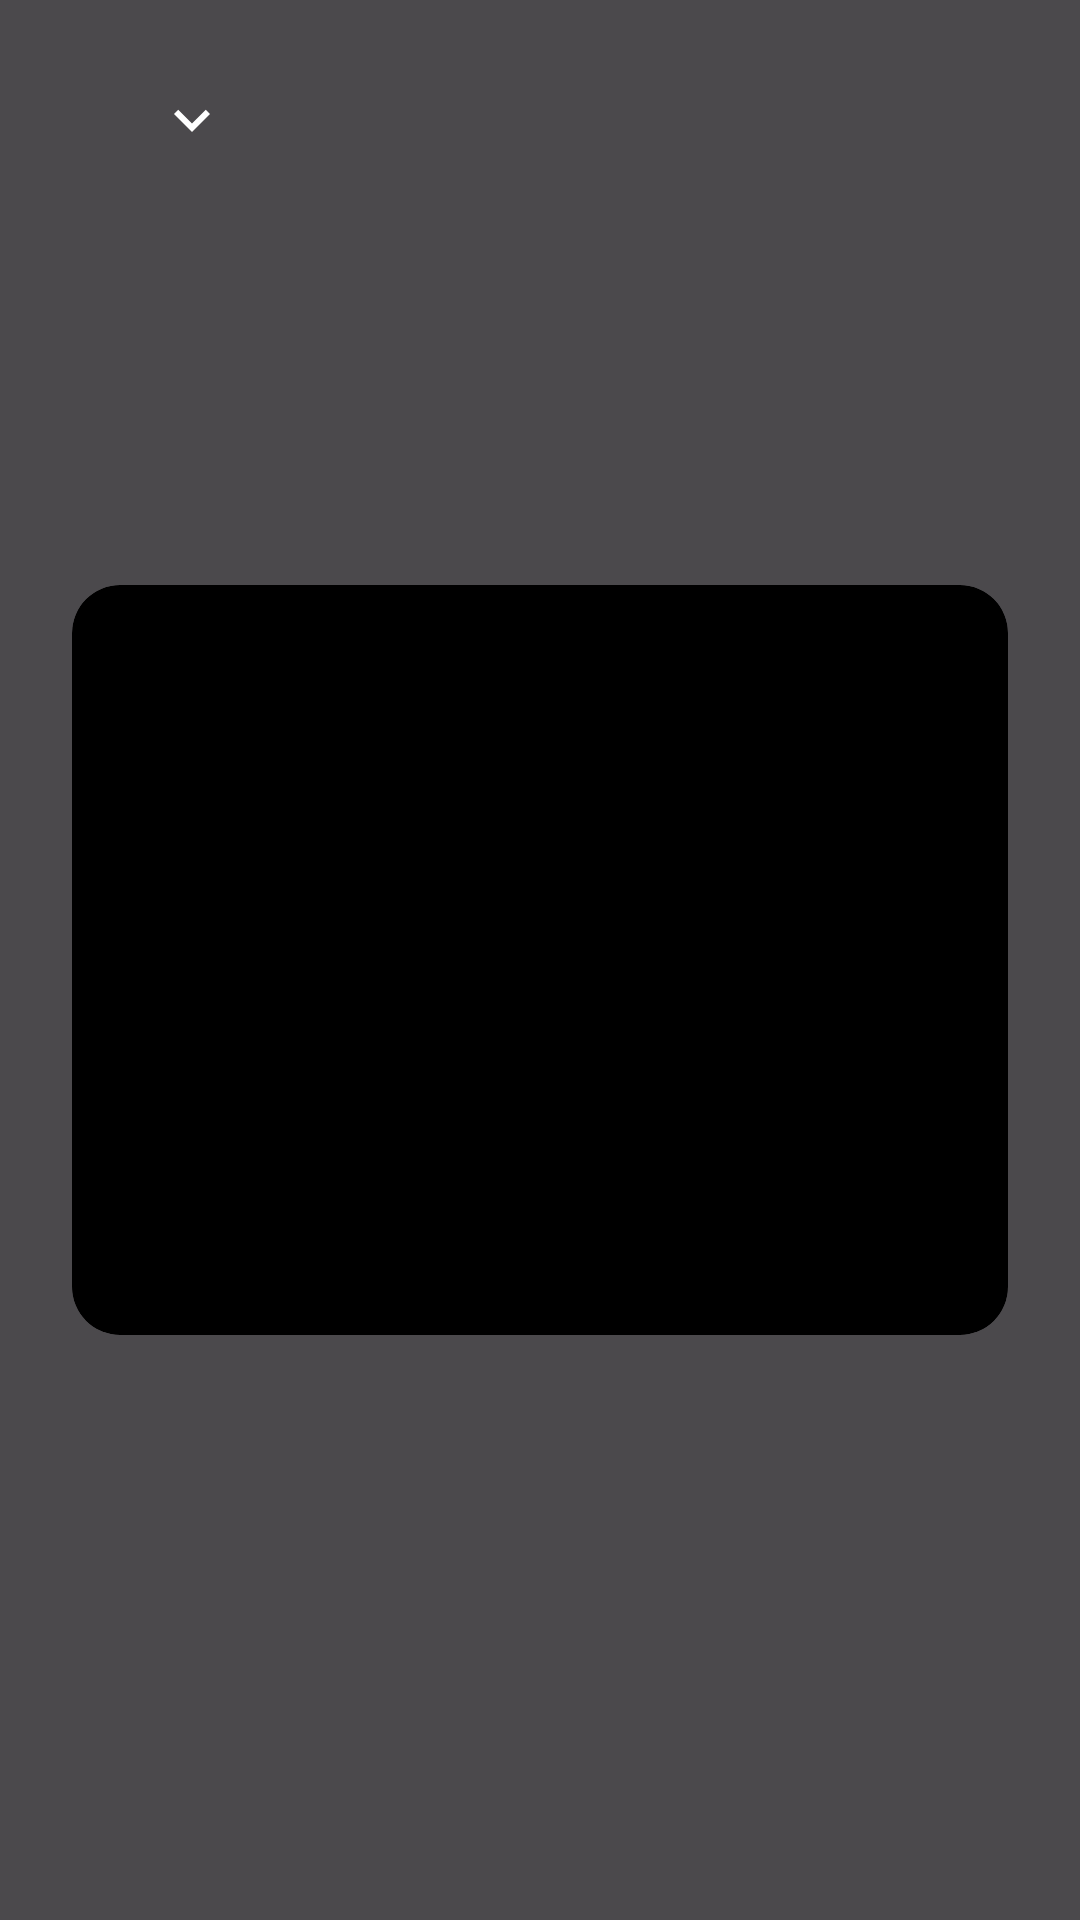

Where icons sit on this 1080*1920 app screen, as (x1, y1, x2, y2):
Close Video: (174, 110, 210, 132)
